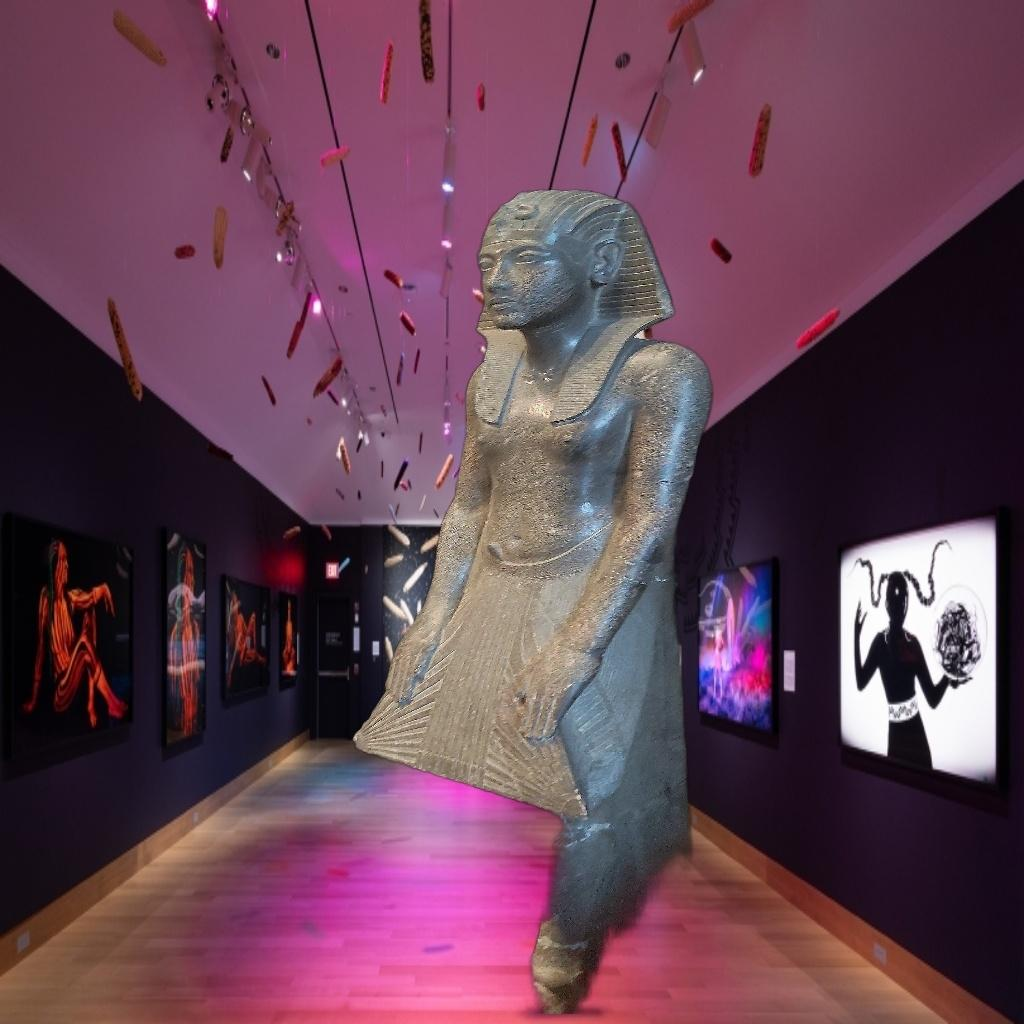Granite Statue of Tutankhamun: (346, 184, 726, 1014)
